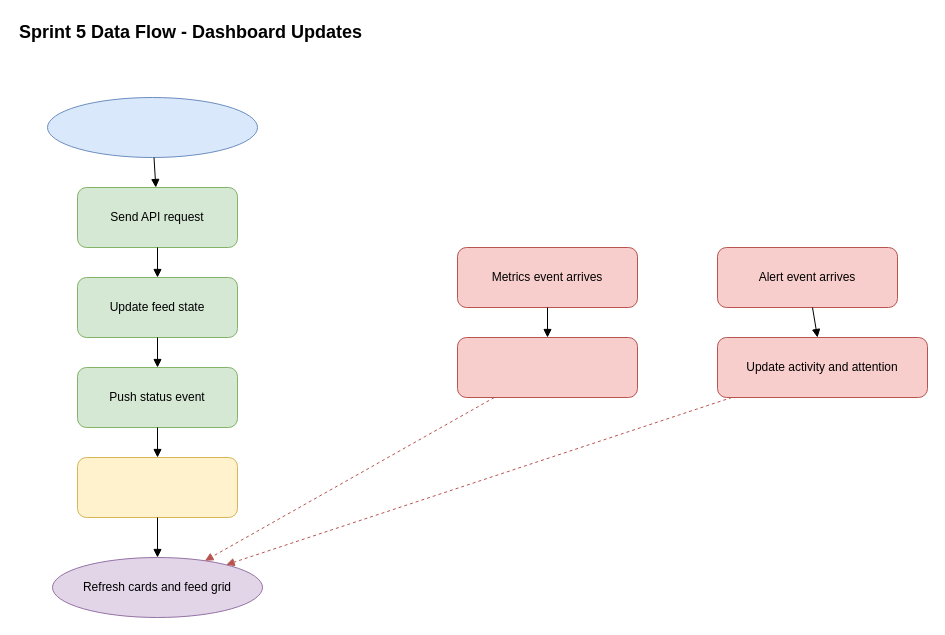
The diagram is 945 pixels wide and 635 high, and some of its shapes have lost their labels. The shapes that lost their labels are listed below. From the top down, each one's centre as x and y in pixels, then its label:
pixel 152 127: User action on dashboard
pixel 547 367: Update KPI values
pixel 157 487: Update dashboard state
